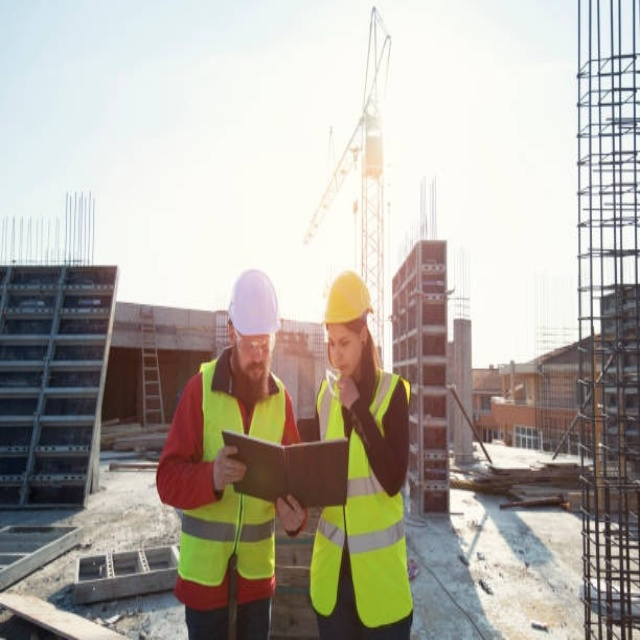Gafas: (233, 329, 277, 353)
Sin_gafas: (326, 331, 359, 350)
Sin_guantes: (213, 443, 247, 492), (276, 493, 306, 535), (333, 373, 359, 411)
Sin_mascara: (247, 359, 267, 381), (329, 359, 350, 372)
